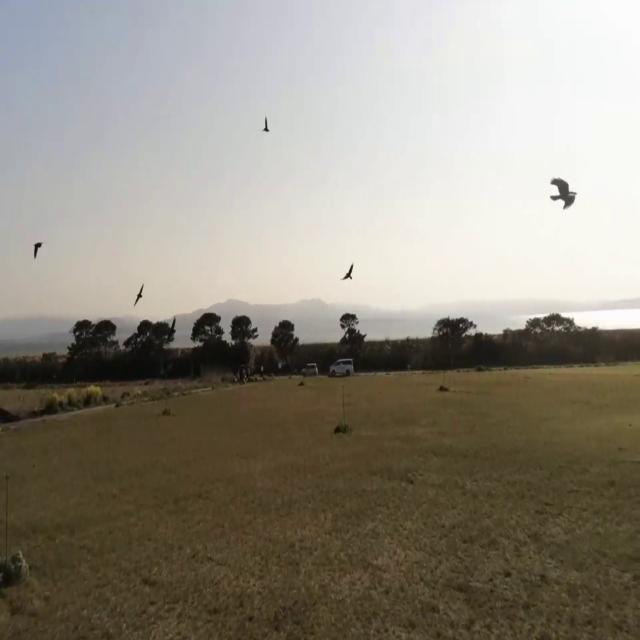bird: (550, 165, 578, 219), (342, 256, 354, 286), (133, 278, 144, 309), (33, 234, 43, 263), (262, 110, 270, 140)
